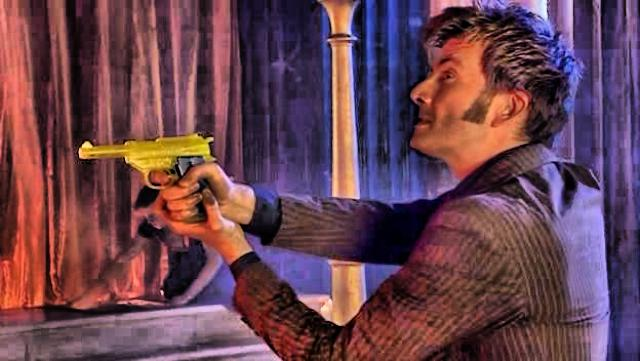pistol: (75, 132, 215, 222)
